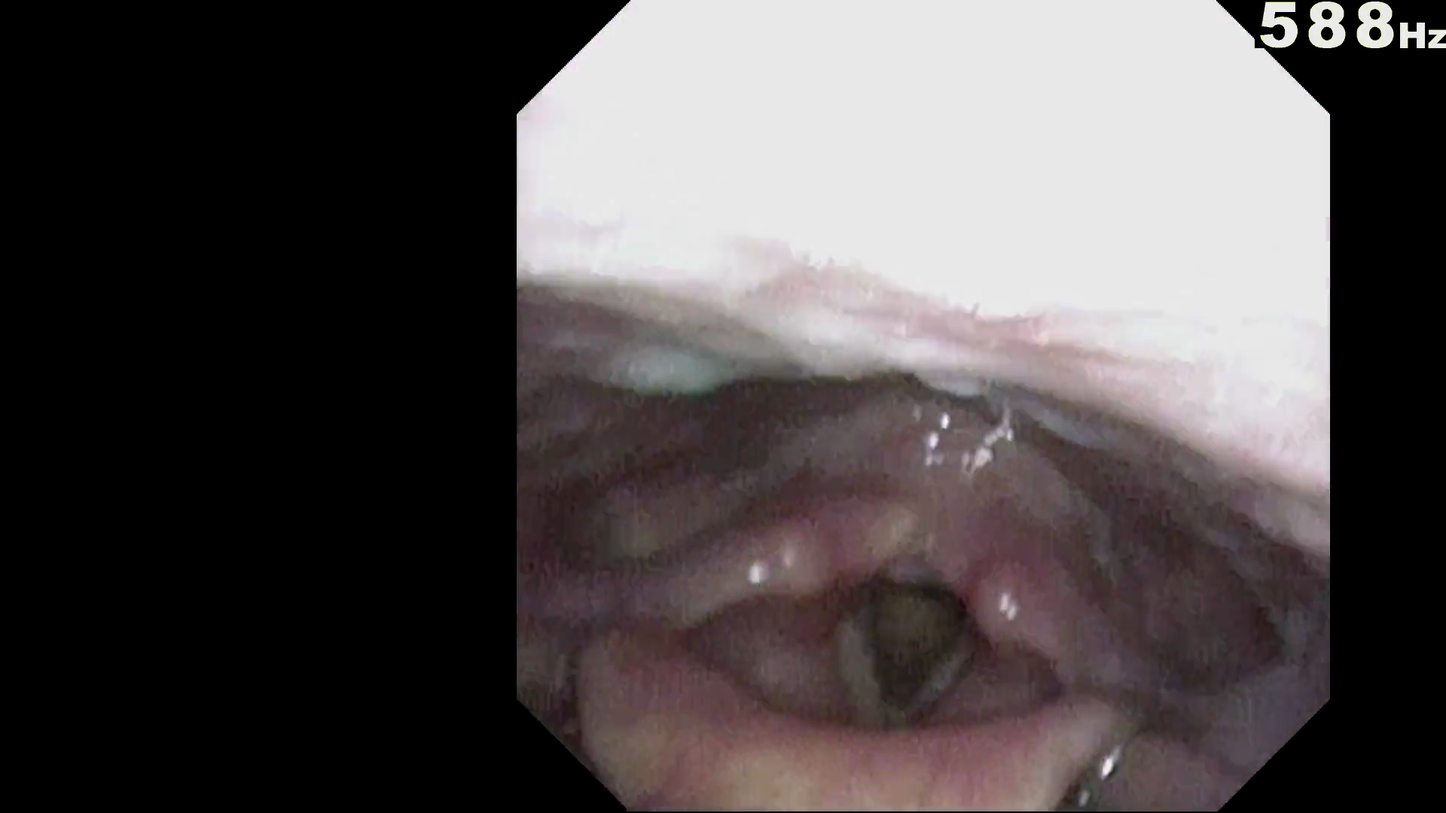epiglottis: (596, 564, 1137, 754)
trachea: (848, 528, 972, 682)
